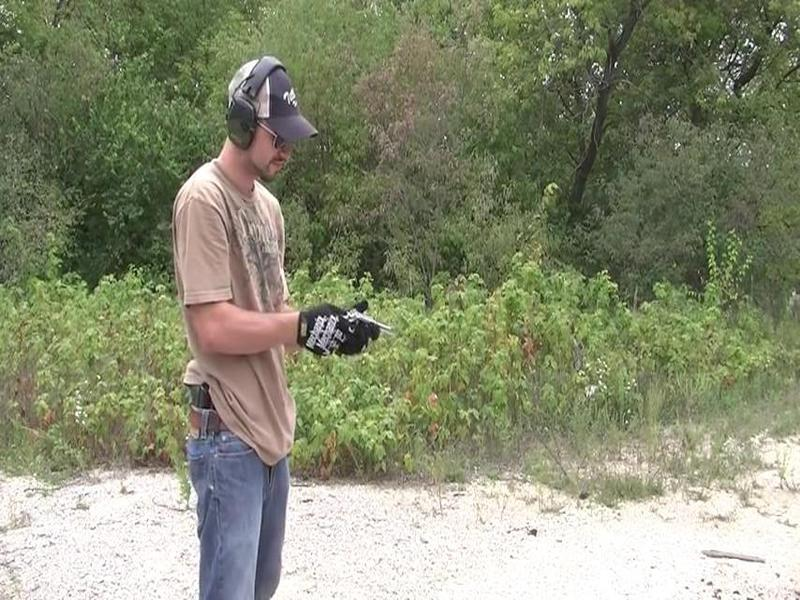Revolver: (329, 294, 407, 362)
